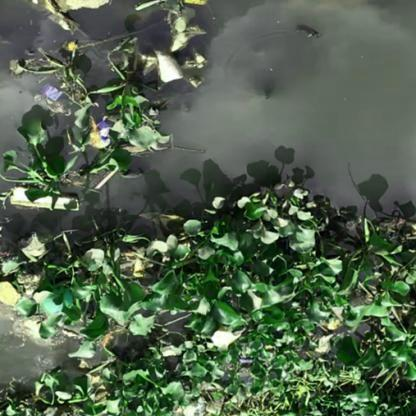Trash: (30, 83, 64, 107), (94, 120, 112, 158)
